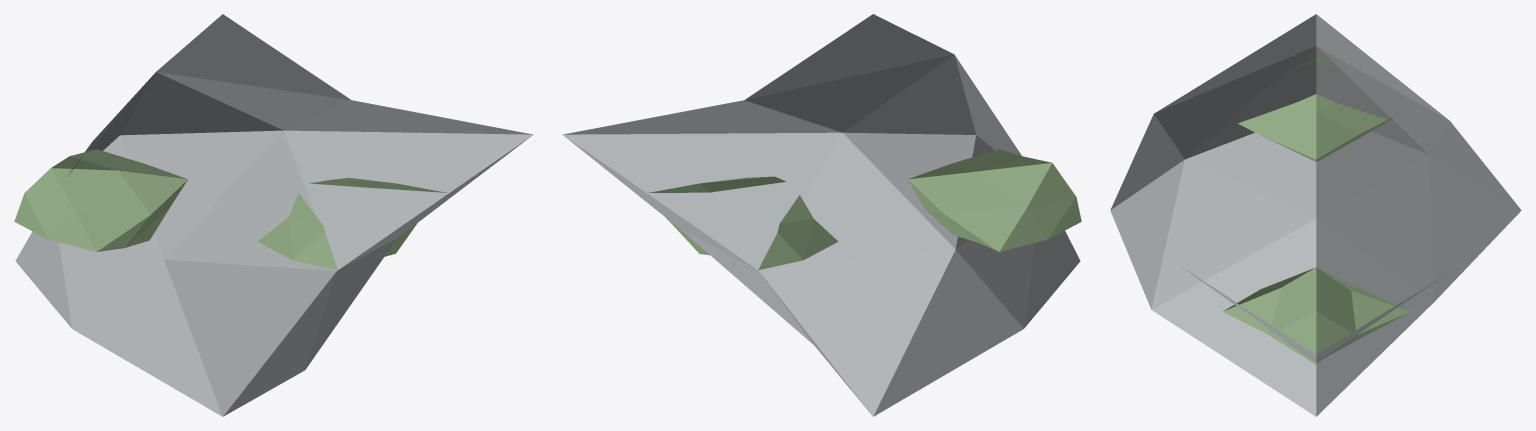
The model's file is moss_rock_v27.glb.
3 views of the same model, side by side, from view 1: azimuth 30°, elevation 25°; view 2: azimuth 150°, elevation 25°; view 3: azimuth 270°, elevation 25° (orthographic).
Visible parts, largest first — view 1: lod0; view 2: lod0; view 3: lod0.
Boxes of the visible parts, left/top/right/bottom form: lod0: left=14, top=14, right=532, bottom=416; lod0: left=563, top=14, right=1081, bottom=416; lod0: left=1110, top=14, right=1521, bottom=416.
Size of what is drawn, in the model's own units: 1.13 by 0.8392 by 0.7765.
